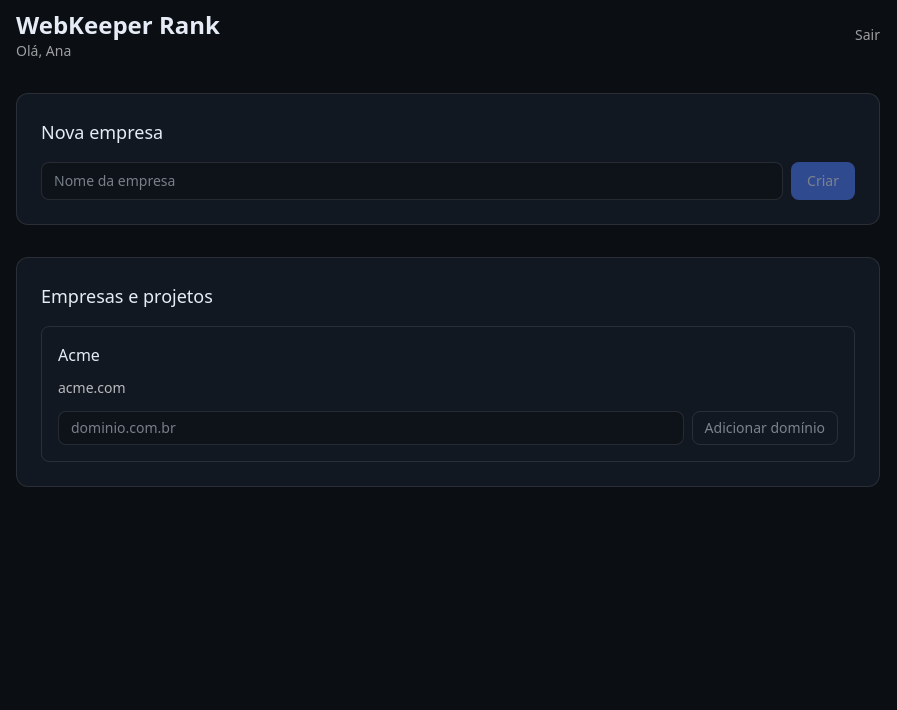
Test case: DashboardPage › runs an audit for the selected project and displays the refetched score
Click the button "acme.com". click: {"x": 92, "y": 388}
box: [58,378,126,398]
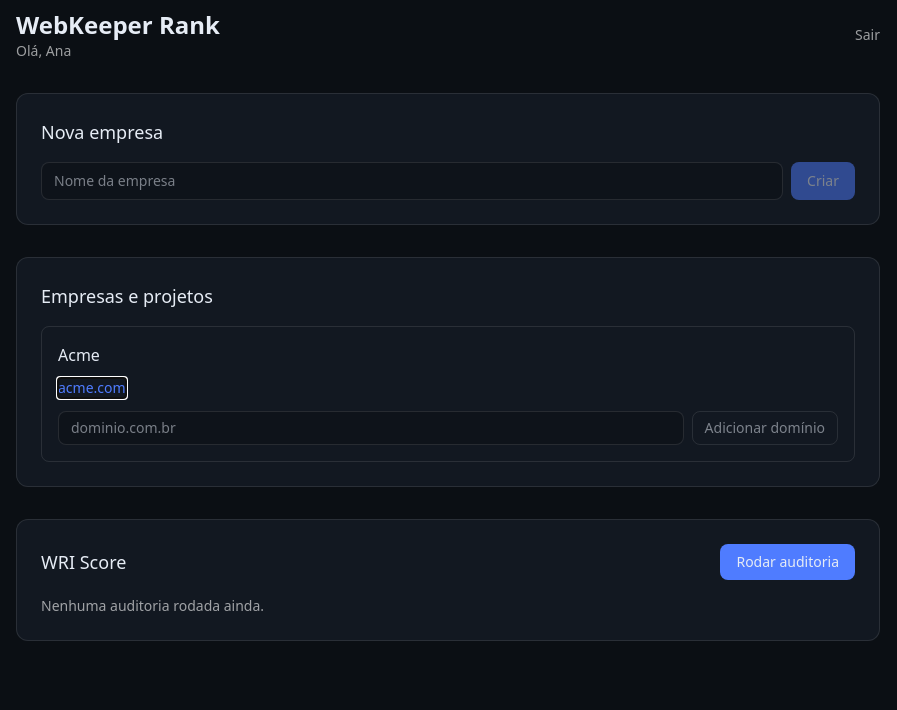
Check: the text "Nenhuma auditoria rodada ainda." is shown, box [41,596,264,615]
Click the button "Rodar auditoria". click: {"x": 788, "y": 562}
box: [720,544,855,580]
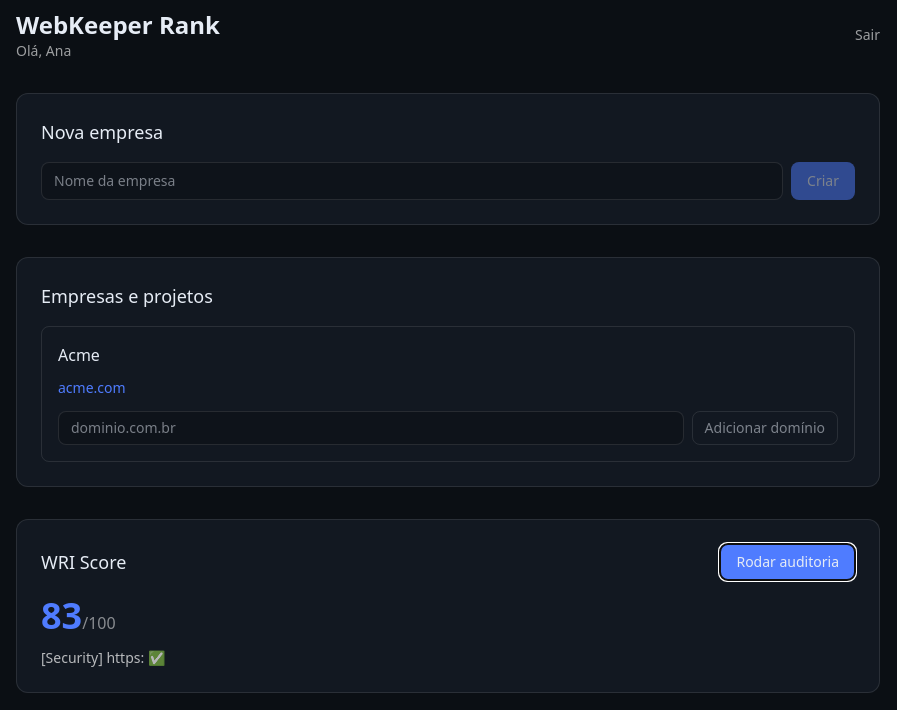
Check: the text "83" is shown, box [41,591,82,640]
Check: the list item "[Security] https: ✅" is shown, box [41,648,165,667]
